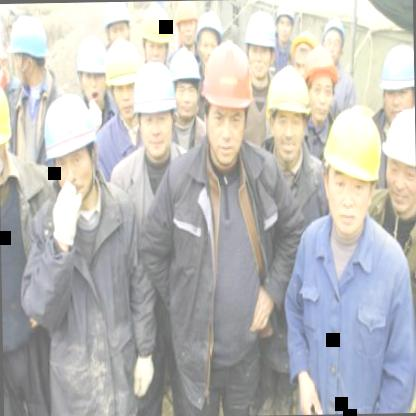helmet: (322, 108, 389, 228), (42, 88, 101, 199), (208, 46, 258, 160), (264, 66, 314, 164), (378, 98, 416, 217), (131, 61, 177, 156), (8, 12, 50, 87), (103, 35, 140, 120), (378, 39, 414, 124), (302, 46, 340, 124), (168, 42, 202, 124), (242, 6, 276, 88), (74, 32, 108, 108), (140, 4, 172, 66), (100, 1, 134, 52), (194, 8, 224, 64), (320, 16, 349, 63), (172, 0, 198, 52), (0, 75, 13, 176), (274, 0, 297, 51)
